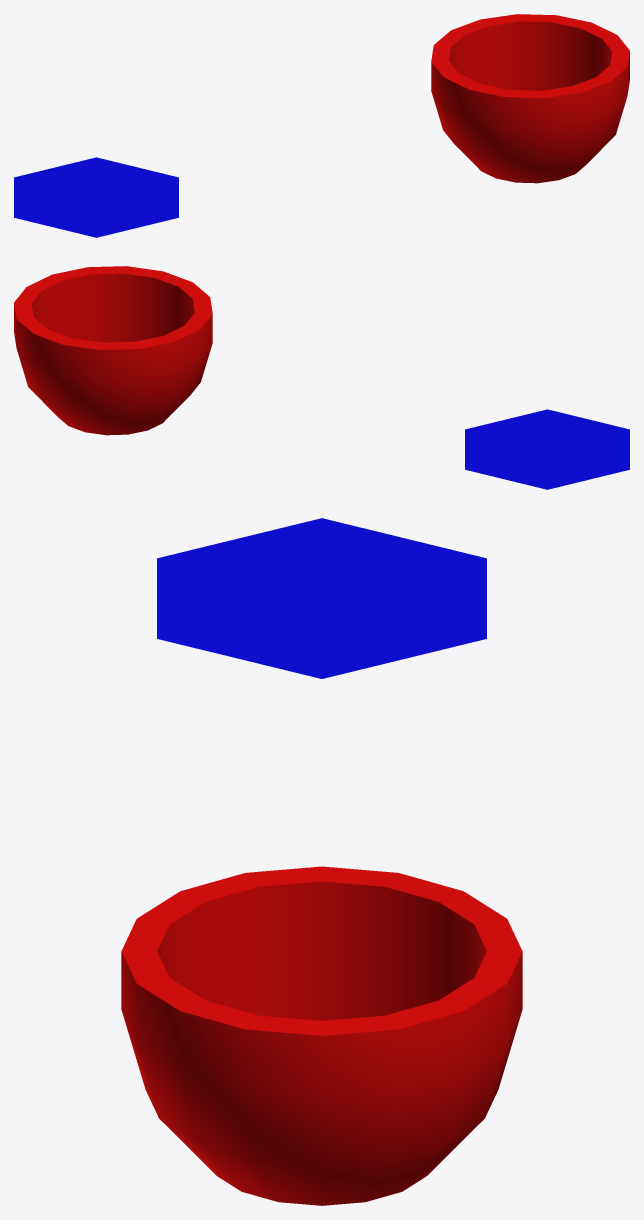
File: reis_low_explosion.fbx
3 views of the same model, one above another, from view 1: azimuth 30°, elevation 25°; view 2: azimuth 150°, elevation 25°; view 3: azimuth 270°, elevation 25° (orthographic). The views are drawn at different scales.
Visible parts, largest first — view 1: pPipe1, pCylinder2; view 2: pPipe1, pCylinder2; view 3: pPipe1, pCylinder2.
Part boxes in pixels (box(x1,y1,x2,y2)): pPipe1: box(431, 14, 629, 183); pCylinder2: box(14, 157, 178, 237); pPipe1: box(14, 266, 212, 435); pCylinder2: box(465, 409, 629, 489); pPipe1: box(121, 866, 522, 1205); pCylinder2: box(157, 518, 486, 678).
Bounding box in the file's own units: 6.95 × 1.14 × 2.
